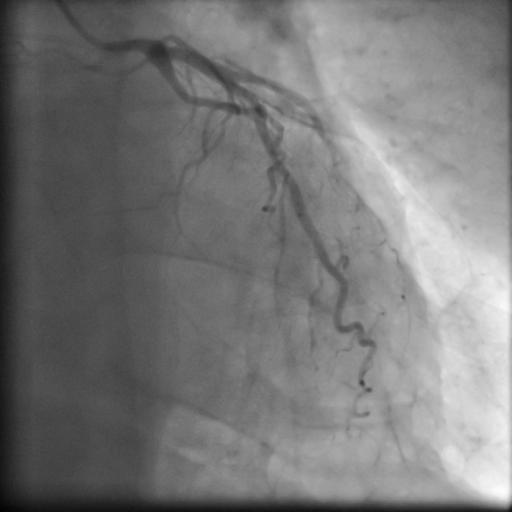Stenosis: (235, 99, 262, 118)
